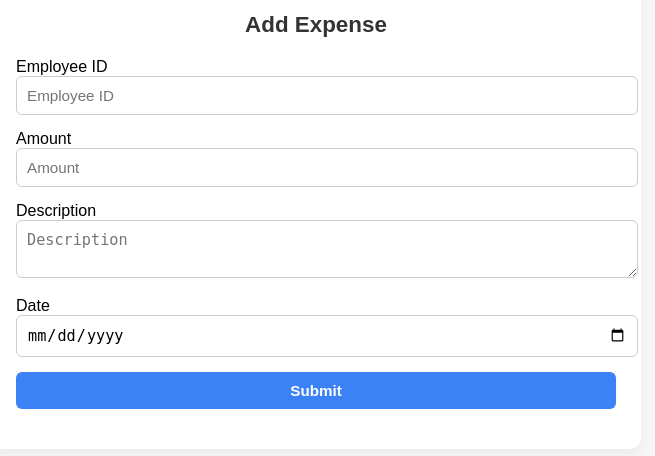
ExpenseForm › ErrorHandling_shows error on invalid input
This screenshot has width=655, height=456.
Type "-1" into the number field labelled "Amount" at (327, 167), box [16,148,638,187]
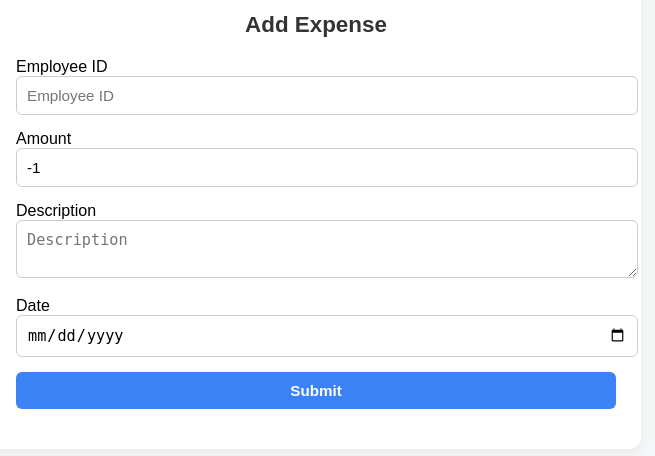
Type "Bad" into the text box labelled "Description" at (327, 249), box [16,220,638,278]
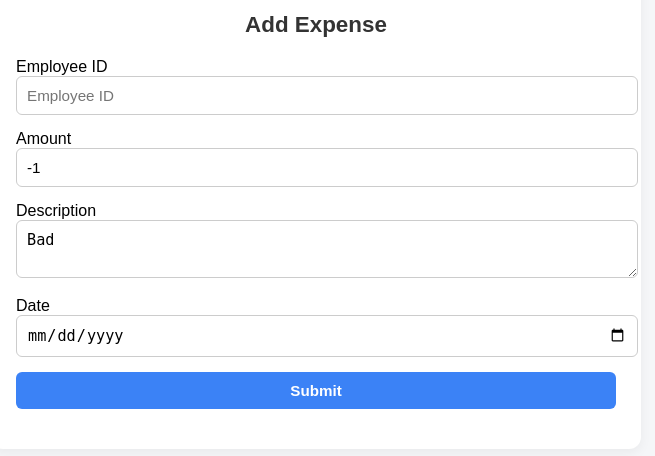
Click the button with test id "submit-btn" at (316, 390), box [16,372,616,409]
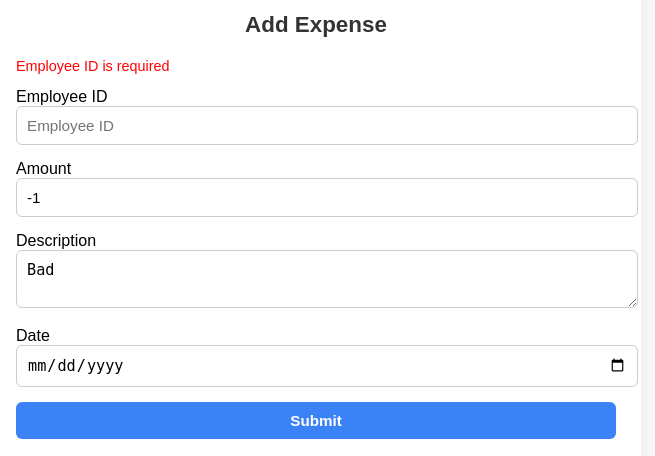
Now the text "Employee ID is required" is shown, box [16,58,170,74]
